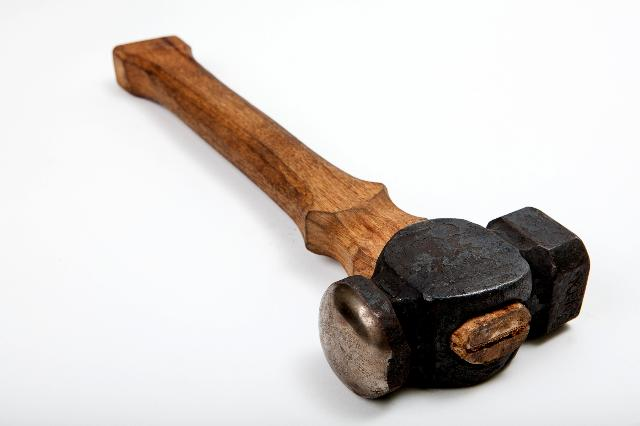hammer: (105, 30, 597, 408)
